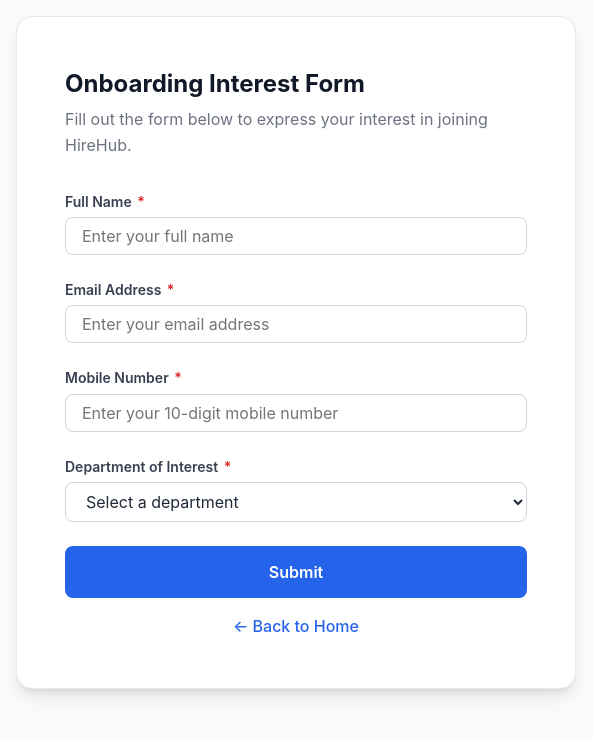
Test: InterestForm › Validation errors › shows invalid email error for malformed email
Type "John Doe" into the field labelled "Full Name *".
click(296, 236); type("John Doe")  # box [65, 217, 527, 255]
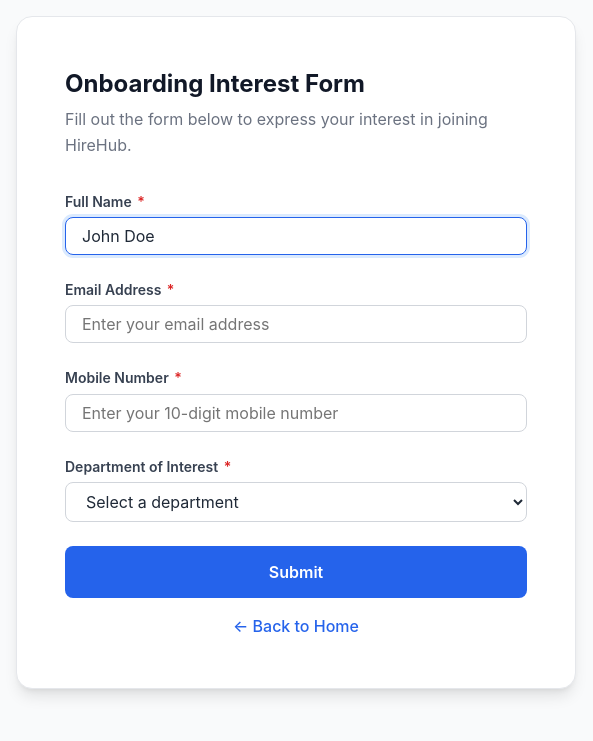
Type "notanemail" into the field labelled "Email Address *".
click(296, 324); type("notanemail")  # box [65, 305, 527, 343]
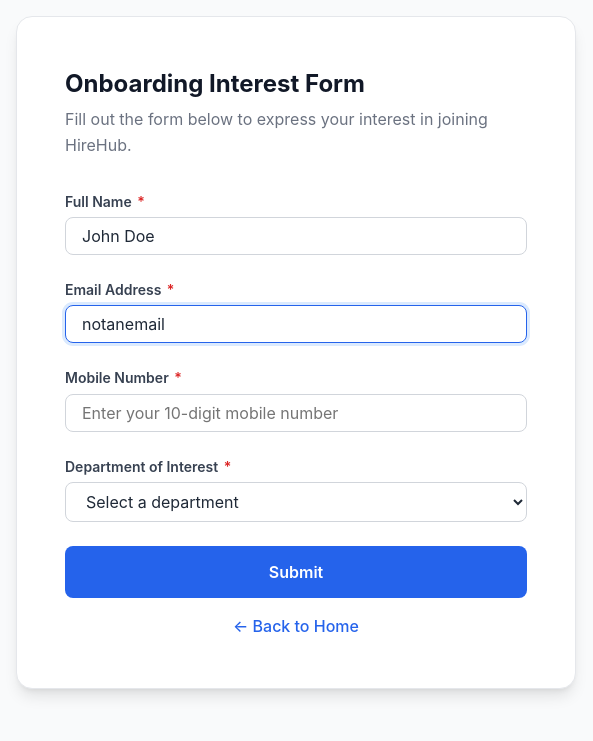
Type "1234567890" into the field labelled "Mobile Number *".
click(296, 413); type("1234567890")  # box [65, 394, 527, 432]
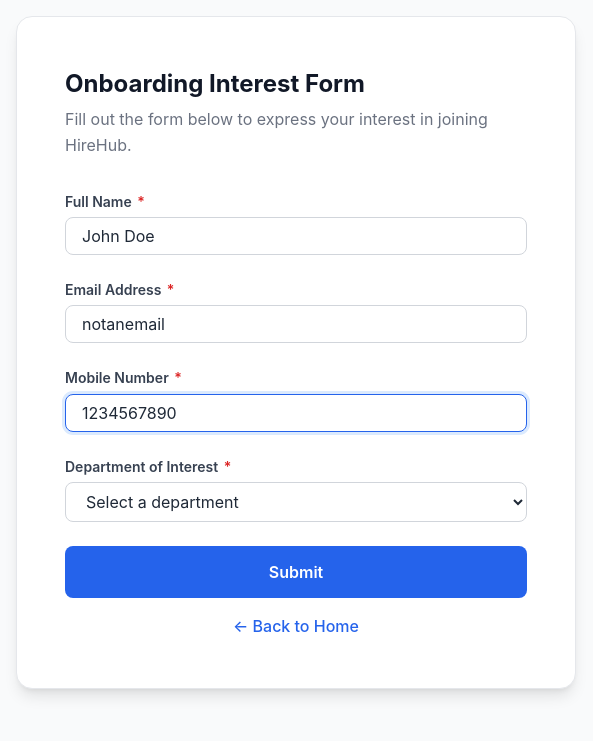
Select "Engineering" in the dropdown labelled "Department of Interest *" at (296, 502), box [65, 482, 527, 522]
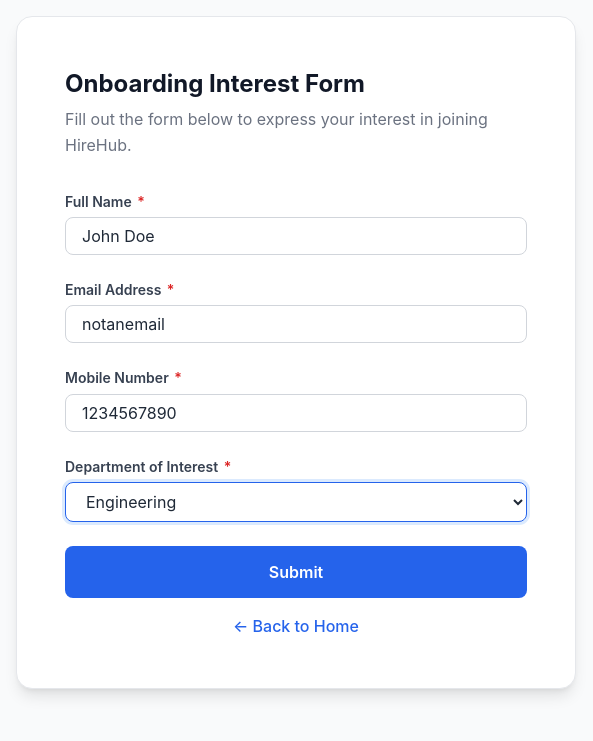
Click the button "Submit".
click(296, 572)  # box [65, 546, 527, 598]
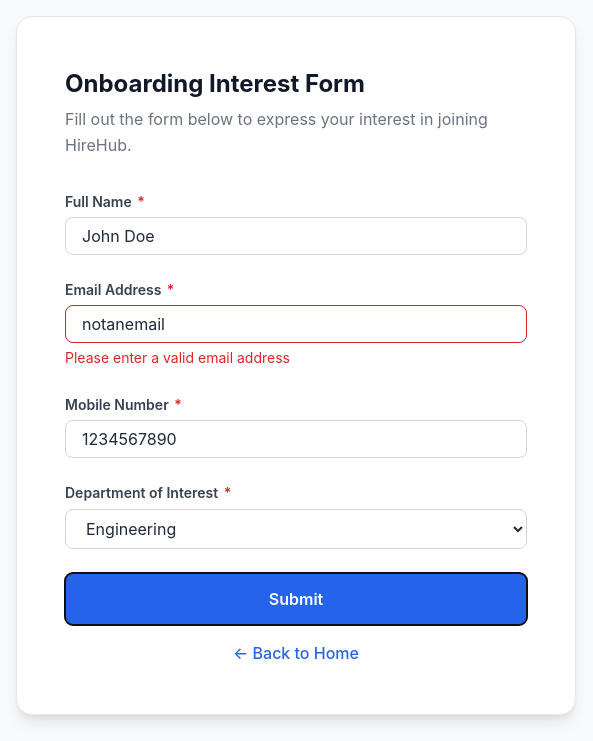
Expected: the text "Please enter a valid email address" is shown, [65, 349, 290, 366]
